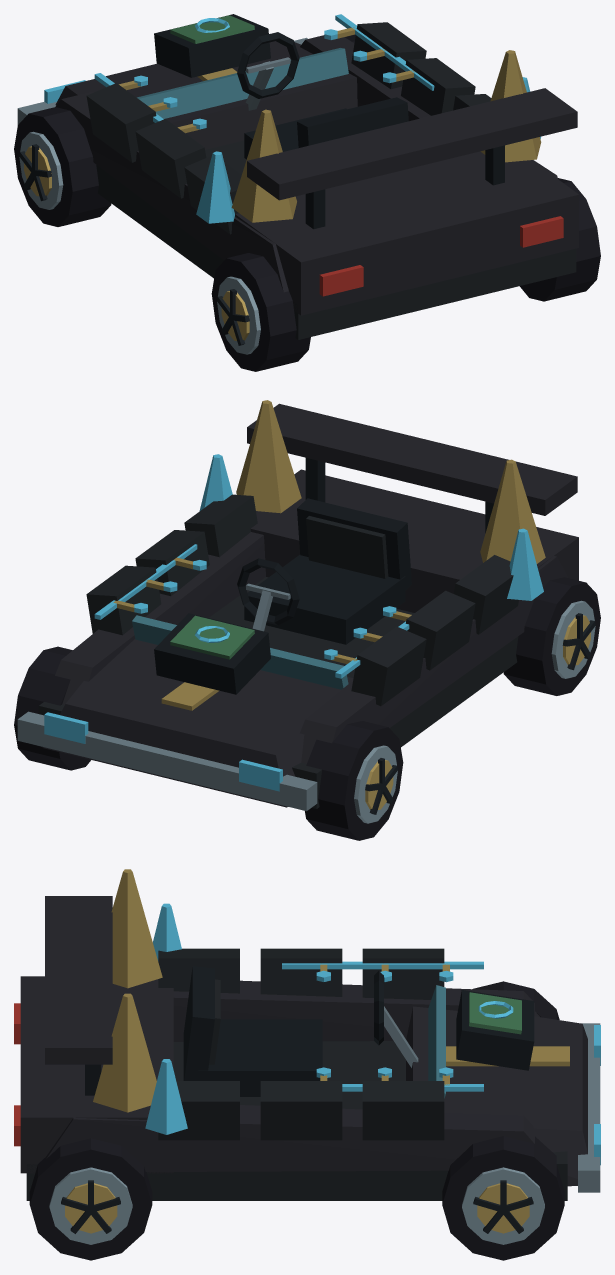
The model's file is kart.glb.
3 renders of one model, top to bottom at view 1: azimuth 30°, elevation 25°; view 2: azimuth 150°, elevation 25°; view 3: azimuth 270°, elevation 25°, orthographic. The views are drawn at different scales.
Parts seen in each view (by area): view 1: identity-sports-car-sports-car-road-car-body, identity-sports-car-motif-armor, wheel-front-left, wheel-rear-left, identity-sports-car-motif-crystals, identity-sports-car-driver-cockpit, identity-sports-car-motif-scanner, wheel-rear-right, identity-sports-car-motif-circuit; view 2: identity-sports-car-sports-car-road-car-body, identity-sports-car-motif-armor, identity-sports-car-driver-cockpit, identity-sports-car-motif-crystals, wheel-front-left, wheel-rear-left, identity-sports-car-motif-scanner, wheel-front-right, identity-sports-car-motif-circuit; view 3: identity-sports-car-sports-car-road-car-body, identity-sports-car-motif-armor, wheel-front-right, identity-sports-car-driver-cockpit, wheel-rear-right, identity-sports-car-motif-crystals, identity-sports-car-motif-scanner, identity-sports-car-motif-circuit, wheel-front-left.
Boxes of the visible parts, x1,y1,x2,y2 form: identity-sports-car-sports-car-road-car-body: (17,35,578,339); identity-sports-car-motif-armor: (86,22,491,234); wheel-front-left: (14,107,111,226); wheel-rear-left: (211,253,310,371); identity-sports-car-motif-crystals: (196,50,541,223); identity-sports-car-driver-cockpit: (237,32,408,159); identity-sports-car-motif-scanner: (154,14,270,77); wheel-rear-right: (519,178,600,301); identity-sports-car-motif-circuit: (94,14,434,133); identity-sports-car-sports-car-road-car-body: (17,403,578,811); identity-sports-car-motif-armor: (86,494,518,706); identity-sports-car-driver-cockpit: (237,498,411,644); identity-sports-car-motif-crystals: (199,400,545,600); wheel-front-left: (305,721,403,840); wheel-rear-left: (503,577,600,695); identity-sports-car-motif-scanner: (154,613,270,694); wheel-front-right: (14,646,90,770); identity-sports-car-motif-circuit: (94,544,411,678); identity-sports-car-sports-car-road-car-body: (14,896,600,1200); identity-sports-car-motif-armor: (158,948,444,1140); wheel-front-right: (442,1136,564,1260); identity-sports-car-driver-cockpit: (183,966,418,1096); wheel-rear-right: (29,1138,152,1260); identity-sports-car-motif-crystals: (93,869,187,1134); identity-sports-car-motif-scanner: (456,990,534,1070); identity-sports-car-motif-circuit: (282,961,483,1091); wheel-front-left: (472,981,559,1019).
Size of the model in its own units: 2.07 by 1.32 by 2.88.
